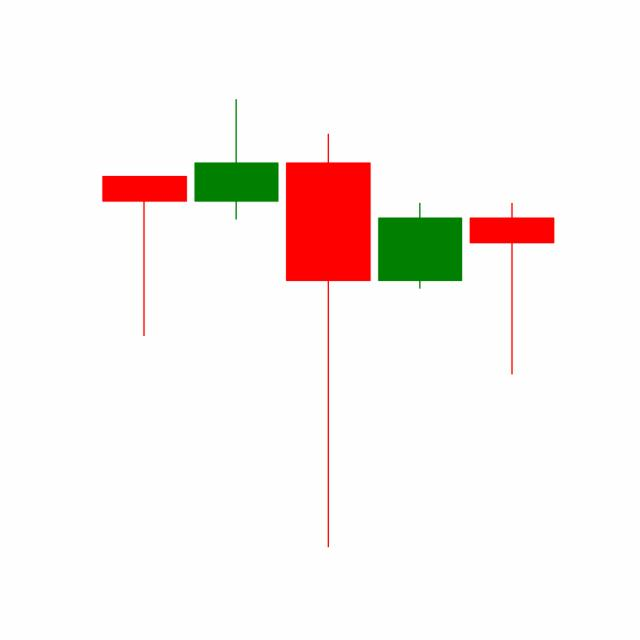Marubozu: (373, 202, 467, 290)
